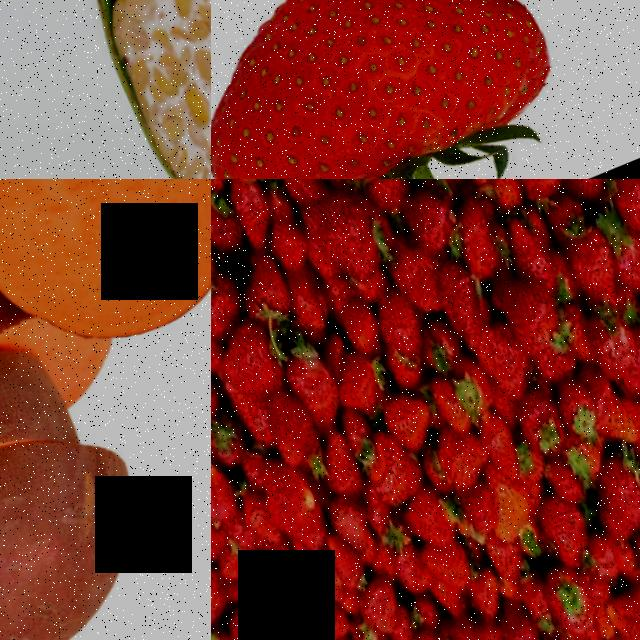strawberry: (211, 0, 587, 179), (211, 318, 292, 410), (490, 263, 567, 358), (548, 370, 608, 445), (509, 383, 570, 456), (595, 449, 640, 538), (602, 578, 640, 640), (447, 605, 514, 640)
sweet potato: (0, 404, 199, 640), (0, 179, 211, 385)
tempeh: (73, 0, 211, 179)
